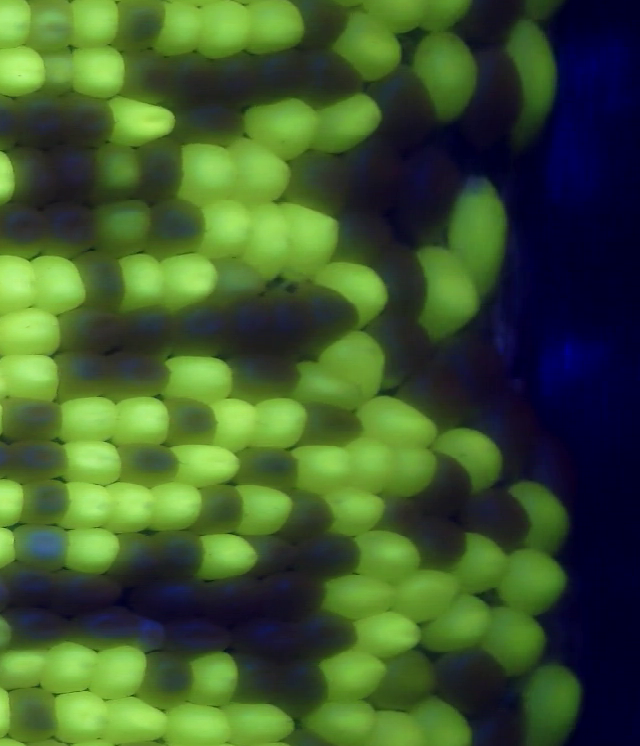fluorescent: (449, 182, 508, 293), (418, 243, 476, 338), (508, 22, 556, 136), (310, 262, 388, 329), (416, 32, 474, 117), (526, 668, 583, 744), (320, 329, 379, 402), (502, 551, 565, 617), (512, 480, 568, 552), (483, 609, 546, 671), (243, 102, 318, 154), (337, 16, 399, 78), (438, 426, 503, 483), (108, 98, 176, 152), (178, 137, 231, 206), (231, 140, 288, 203), (292, 202, 341, 275), (361, 397, 436, 444), (316, 98, 381, 152), (427, 598, 490, 652), (458, 532, 507, 600), (393, 570, 456, 622), (299, 361, 367, 409), (193, 203, 252, 258), (356, 530, 416, 583), (307, 701, 385, 741), (252, 208, 294, 282), (167, 354, 233, 401), (355, 612, 418, 661), (0, 308, 60, 358), (317, 572, 392, 612), (58, 395, 118, 444), (323, 652, 383, 701), (36, 257, 86, 315), (92, 642, 144, 697), (376, 652, 434, 701), (323, 494, 388, 537), (245, 3, 302, 51), (294, 442, 346, 494), (55, 693, 108, 744), (61, 528, 119, 574), (170, 443, 238, 482), (258, 397, 309, 449), (149, 3, 202, 53), (239, 486, 293, 535), (414, 699, 470, 746), (165, 704, 229, 745), (115, 397, 168, 446), (200, 3, 248, 57), (199, 532, 256, 577), (231, 701, 296, 740), (118, 255, 163, 311), (164, 251, 206, 311), (392, 441, 433, 502), (153, 479, 201, 531), (350, 437, 393, 495), (4, 353, 57, 400), (106, 698, 162, 742), (190, 654, 238, 705), (0, 42, 44, 97), (209, 400, 258, 449), (62, 482, 110, 532), (76, 45, 123, 96), (98, 203, 149, 248), (42, 647, 93, 691), (62, 441, 118, 481), (107, 484, 153, 532), (32, 4, 77, 53), (0, 257, 40, 312), (101, 147, 140, 200), (79, 1, 123, 46), (0, 649, 48, 687), (366, 711, 417, 746), (40, 47, 76, 92), (0, 3, 32, 45)
nonfluorescent: (473, 44, 523, 158), (236, 657, 327, 717), (399, 147, 458, 234), (478, 394, 532, 484), (371, 67, 435, 140), (366, 316, 426, 384), (345, 143, 403, 212), (397, 367, 466, 424), (288, 151, 347, 216), (73, 608, 163, 650), (433, 652, 505, 704), (443, 336, 494, 407), (375, 250, 426, 317), (465, 490, 532, 540), (308, 287, 358, 352), (171, 302, 230, 357), (230, 357, 300, 402), (423, 451, 471, 516), (134, 576, 203, 621), (304, 52, 360, 107), (259, 575, 328, 619), (63, 93, 117, 149), (149, 203, 204, 257), (142, 647, 188, 710), (233, 616, 303, 657), (175, 106, 243, 148), (141, 136, 183, 203), (469, 690, 523, 742), (8, 687, 55, 746), (408, 515, 464, 564), (168, 617, 233, 659), (234, 447, 299, 488), (338, 212, 392, 261), (298, 533, 358, 577), (16, 91, 63, 147), (82, 249, 128, 306), (51, 566, 120, 604), (8, 605, 70, 647), (205, 574, 259, 622), (196, 483, 244, 536), (0, 204, 46, 259), (298, 3, 350, 51), (60, 347, 113, 394), (18, 478, 71, 525), (215, 52, 258, 109), (108, 535, 158, 584), (303, 612, 355, 659), (226, 301, 273, 353), (258, 49, 304, 102), (13, 437, 68, 481), (283, 491, 338, 535), (59, 309, 122, 347), (171, 53, 215, 107), (300, 404, 360, 443), (48, 205, 93, 256), (118, 2, 163, 53), (122, 445, 176, 487), (273, 292, 312, 350), (157, 534, 204, 582), (126, 306, 175, 352), (125, 53, 171, 102), (18, 527, 75, 566), (169, 396, 217, 442), (51, 149, 93, 201), (10, 150, 52, 202), (113, 357, 169, 396), (249, 534, 298, 578), (7, 564, 58, 606), (8, 401, 64, 439), (380, 497, 425, 532)
